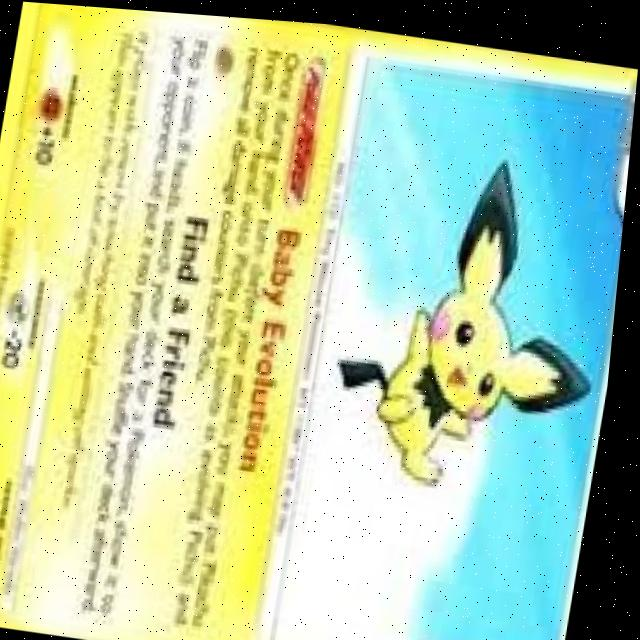pichu: (315, 130, 631, 555)
